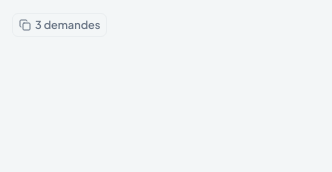
Test case: DuplicateBadge › renonce sans rien écrire
The image size is (332, 172).
Click the button with aria-label "archiver cette demande": (60, 25) [12,13,107,37]
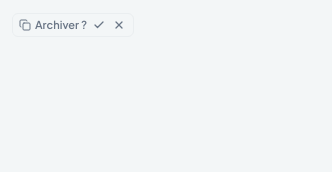
Click the button named "annuler": (119, 25) [111,17,127,33]
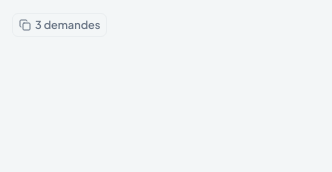
Now the button "3 demandes" is shown, box [12,13,107,37]
